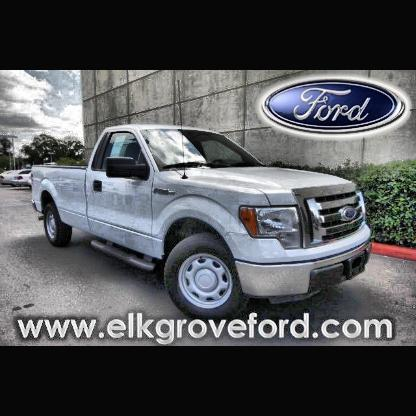Ford F-150 Regular Cab 2012: (30, 123, 376, 328)
